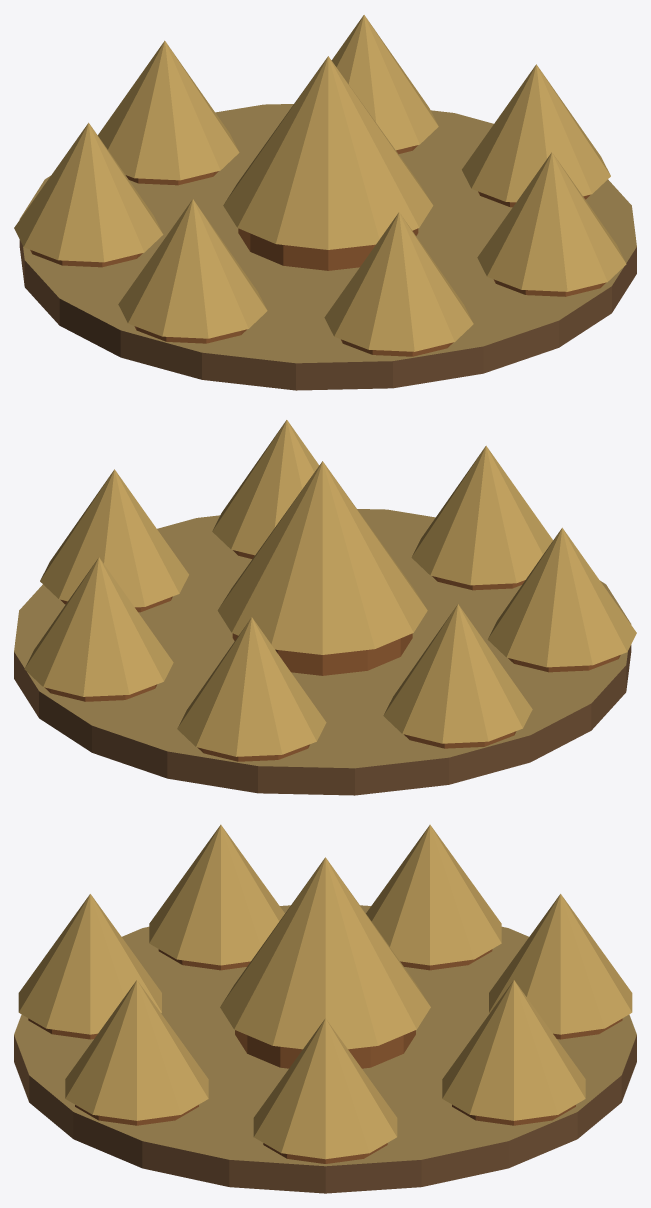
The model's file is kraal.glb.
The picture shows the model from 3 angles, top to bottom: view 1: azimuth 30°, elevation 25°; view 2: azimuth 150°, elevation 25°; view 3: azimuth 270°, elevation 25°; orthographic projection.
Visible parts, largest first — view 1: kraal; view 2: kraal; view 3: kraal.
Boxes of the visible parts, x1=… form: kraal: x1=14, y1=15, x2=636, y2=390; kraal: x1=14, y1=420, x2=636, y2=795; kraal: x1=14, y1=824, x2=636, y2=1193.
Size of the model in its own units: 1.25 by 0.45 by 1.24.
